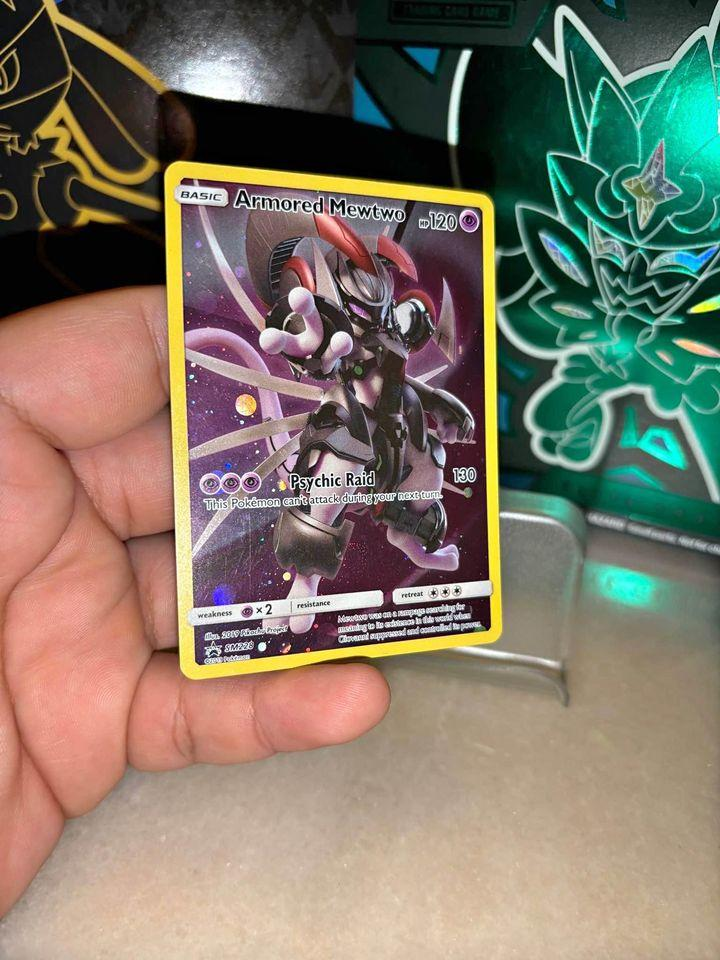card: (163, 159, 504, 682)
